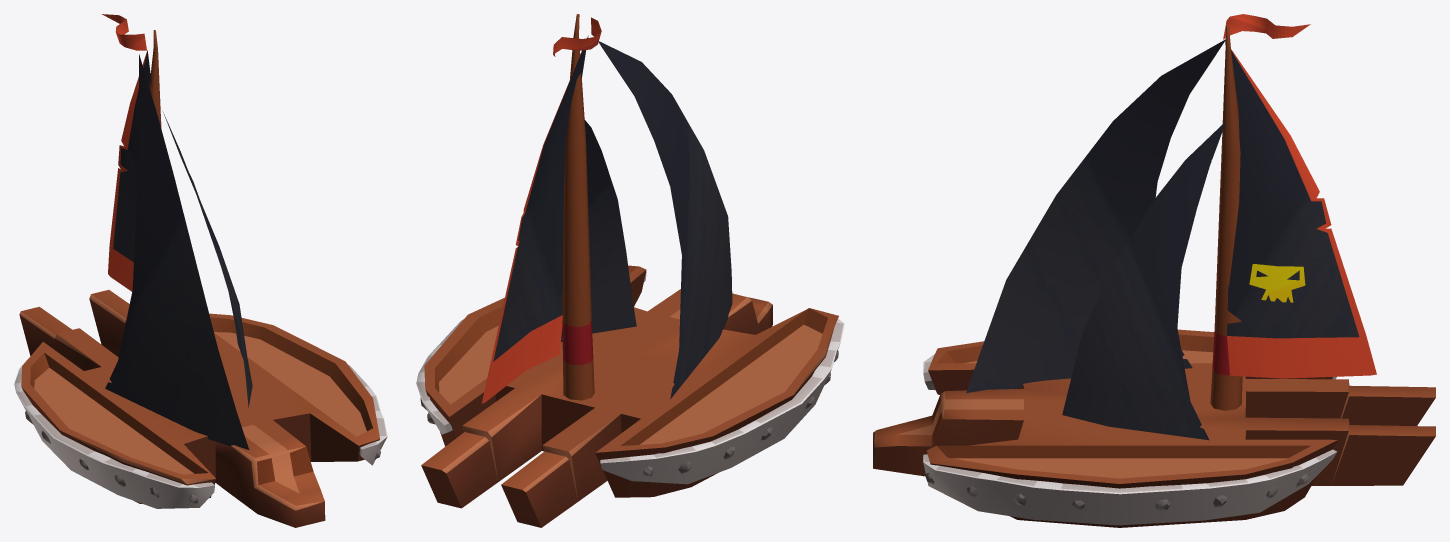
Rendered from SailTypeA.fbx.
The picture shows the model from 3 angles, left to right: view 1: azimuth 30°, elevation 25°; view 2: azimuth 150°, elevation 25°; view 3: azimuth 270°, elevation 25°; orthographic projection. The views are drawn at different scales.
Parts seen in each view (by area): view 1: Color_09, Color_Cloth_01, Armor_Color_19; view 2: Color_09, Color_Cloth_01, Armor_Color_19; view 3: Color_Cloth_01, Color_09, Armor_Color_19.
Part boxes in pixels (x1,y1,x2,y2): Color_09: (19, 30, 379, 527); Color_Cloth_01: (102, 14, 252, 449); Armor_Color_19: (14, 359, 387, 508); Color_09: (421, 14, 838, 527); Color_Cloth_01: (481, 17, 732, 403); Armor_Color_19: (416, 265, 844, 484); Color_Cloth_01: (966, 14, 1376, 440); Color_09: (873, 26, 1435, 527); Armor_Color_19: (923, 354, 1336, 525).
Bounding box in the file's own units: 16.09 × 19.7 × 23.13.
